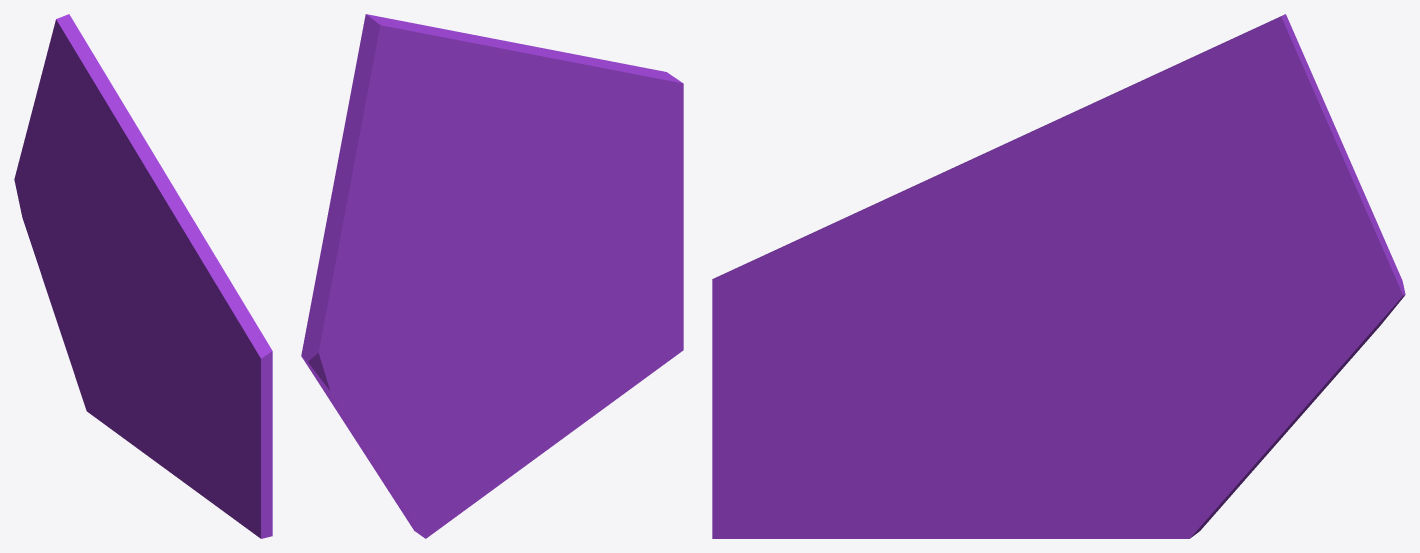
The model's file is Window_44_9_chunks.fbx.
3 renders of one model, left to right at view 1: azimuth 30°, elevation 25°; view 2: azimuth 150°, elevation 25°; view 3: azimuth 270°, elevation 25°, orthographic. The views are drawn at different scales.
Parts seen in each view (by area): view 1: Window_44_9_0, Window_44_9_11, Window_44_9_12, Window_44_9_4, Window_44_9_9, Window_44_9_1, Window_44_9_6, Window_44_9_2, Window_44_9_3, Window_44_9_5, Window_44_9_10; view 2: Window_44_9_0, Window_44_9_4, Window_44_9_11, Window_44_9_12, Window_44_9_9, Window_44_9_1, Window_44_9_6, Window_44_9_2, Window_44_9_5, Window_44_9_3, Window_44_9_10; view 3: Window_44_9_0, Window_44_9_12, Window_44_9_4, Window_44_9_3, Window_44_9_11, Window_44_9_6, Window_44_9_2, Window_44_9_9, Window_44_9_7, Window_44_9_5, Window_44_9_10, Window_44_9_8.
Part boxes in pixels (box(x1,y1,x2,y2)): Window_44_9_0: box(14, 156, 126, 440); Window_44_9_11: box(177, 366, 272, 538); Window_44_9_12: box(156, 208, 272, 398); Window_44_9_4: box(23, 14, 129, 185); Window_44_9_9: box(115, 228, 195, 386); Window_44_9_1: box(87, 124, 150, 276); Window_44_9_6: box(126, 383, 214, 504); Window_44_9_2: box(20, 144, 117, 280); Window_44_9_3: box(122, 115, 187, 233); Window_44_9_5: box(121, 313, 148, 432); Window_44_9_10: box(157, 386, 186, 427); Window_44_9_0: box(301, 284, 484, 538); Window_44_9_4: box(316, 14, 473, 279); Window_44_9_11: box(560, 143, 683, 400); Window_44_9_12: box(528, 48, 683, 235); Window_44_9_9: box(468, 117, 586, 349); Window_44_9_1: box(427, 42, 519, 272); Window_44_9_6: box(484, 351, 614, 495); Window_44_9_2: box(310, 203, 471, 306); Window_44_9_5: box(476, 318, 517, 485); Window_44_9_3: box(456, 31, 549, 138); Window_44_9_10: box(529, 287, 572, 367); Window_44_9_0: box(1107, 242, 1405, 538); Window_44_9_12: box(712, 162, 1007, 368); Window_44_9_4: box(1107, 14, 1376, 228); Window_44_9_3: box(950, 96, 1195, 324); Window_44_9_11: box(712, 347, 915, 538); Window_44_9_6: box(760, 435, 1094, 538); Window_44_9_2: box(1111, 221, 1385, 331); Window_44_9_9: box(926, 230, 1092, 372); Window_44_9_7: box(916, 317, 1108, 438); Window_44_9_5: box(1047, 324, 1126, 531); Window_44_9_10: box(891, 342, 1009, 434); Window_44_9_8: box(1019, 416, 1107, 538).
Bounding box in the file's own units: 27.2 × 839 × 1010.
